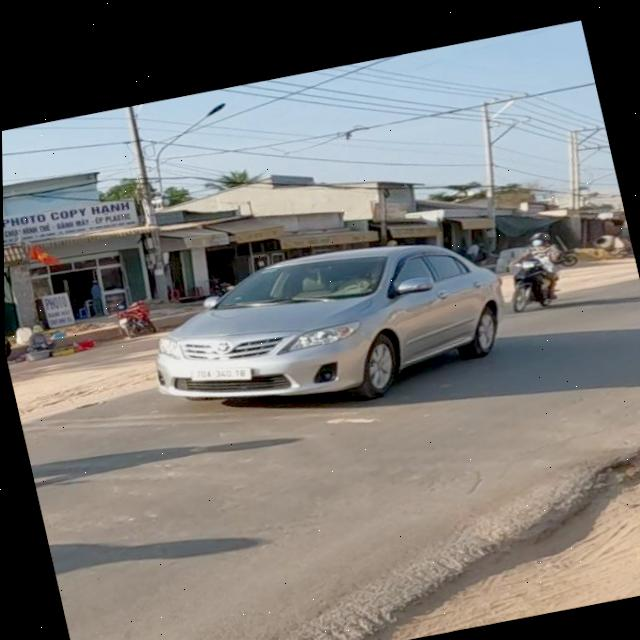car: (133, 207, 525, 448)
motorcycle: (502, 247, 554, 318)
plate: (181, 349, 263, 400)
